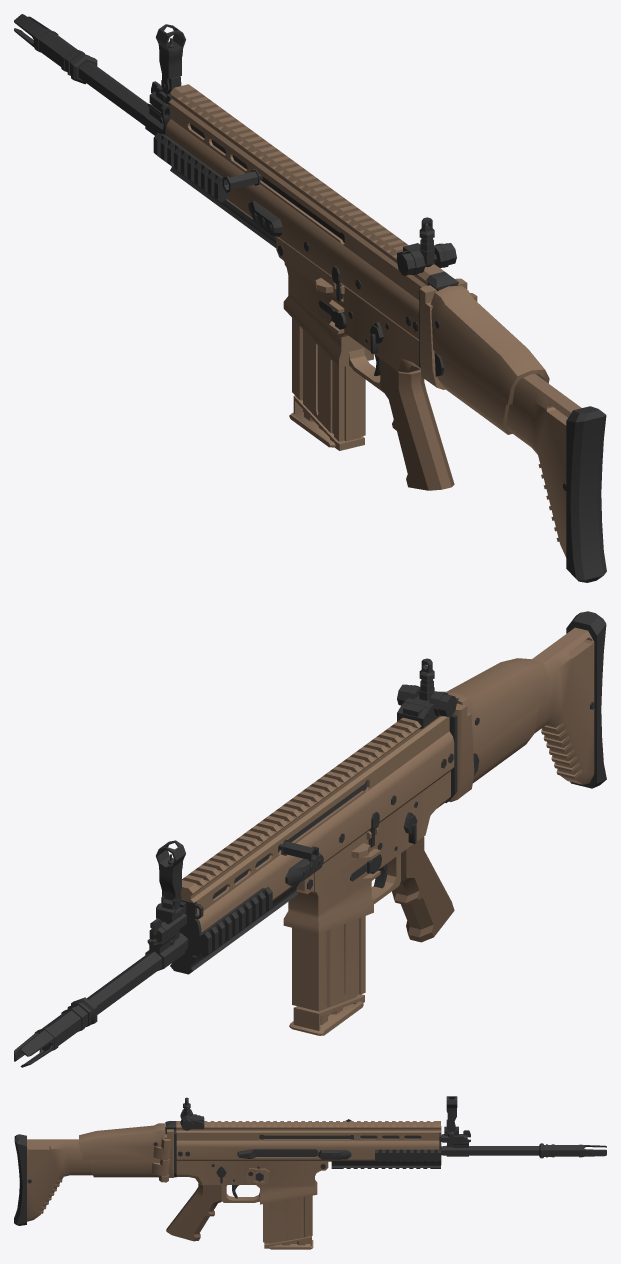
The model's file is gun_br17.glb.
3 views of the same model, one above another, from view 1: azimuth 30°, elevation 25°; view 2: azimuth 150°, elevation 25°; view 3: azimuth 270°, elevation 25° (orthographic). The views are drawn at different scales.
Parts seen in each view (by area): view 1: body, mag, bolt, rsight; view 2: body, mag, bolt, rsight; view 3: body, mag, bolt, rsight.
Boxes of the visible parts, bbox=[...] form: body: bbox=[14, 14, 606, 582]; mag: bbox=[289, 300, 365, 450]; bolt: bbox=[190, 124, 344, 301]; rsight: bbox=[397, 217, 456, 269]; body: bbox=[14, 611, 606, 1067]; mag: bbox=[289, 854, 381, 1035]; bolt: bbox=[212, 780, 379, 899]; rsight: bbox=[397, 658, 456, 714]; body: bbox=[14, 1096, 606, 1241]; mag: bbox=[263, 1195, 313, 1249]; bolt: bbox=[256, 1119, 421, 1156]; rsight: bbox=[180, 1097, 199, 1125].
Size of the model in its own units: 0.073 by 0.2768 by 1.
